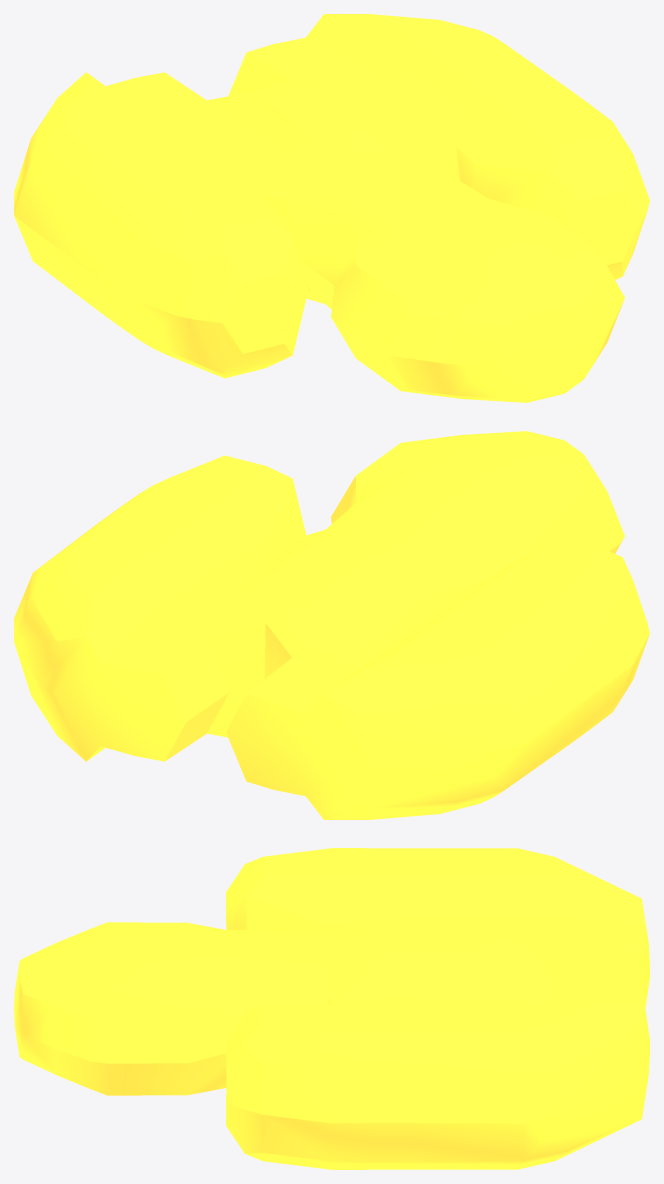
Rendered from 01_ship_medium_partell_aegis.glb.
The picture shows the model from 3 angles, top to bottom: view 1: azimuth 30°, elevation 25°; view 2: azimuth 150°, elevation 25°; view 3: azimuth 270°, elevation 25°; orthographic projection. The views are drawn at different scales.
Parts seen in each view (by area): view 1: 01_ship_medium_partell_aegis; view 2: 01_ship_medium_partell_aegis; view 3: 01_ship_medium_partell_aegis.
Part boxes in pixels (x1,y1,x2,y2): 01_ship_medium_partell_aegis: (14, 14, 649, 402); 01_ship_medium_partell_aegis: (14, 431, 649, 819); 01_ship_medium_partell_aegis: (14, 848, 649, 1169).
Size of the model in its own units: 0.9137 by 0.269 by 1.07.
